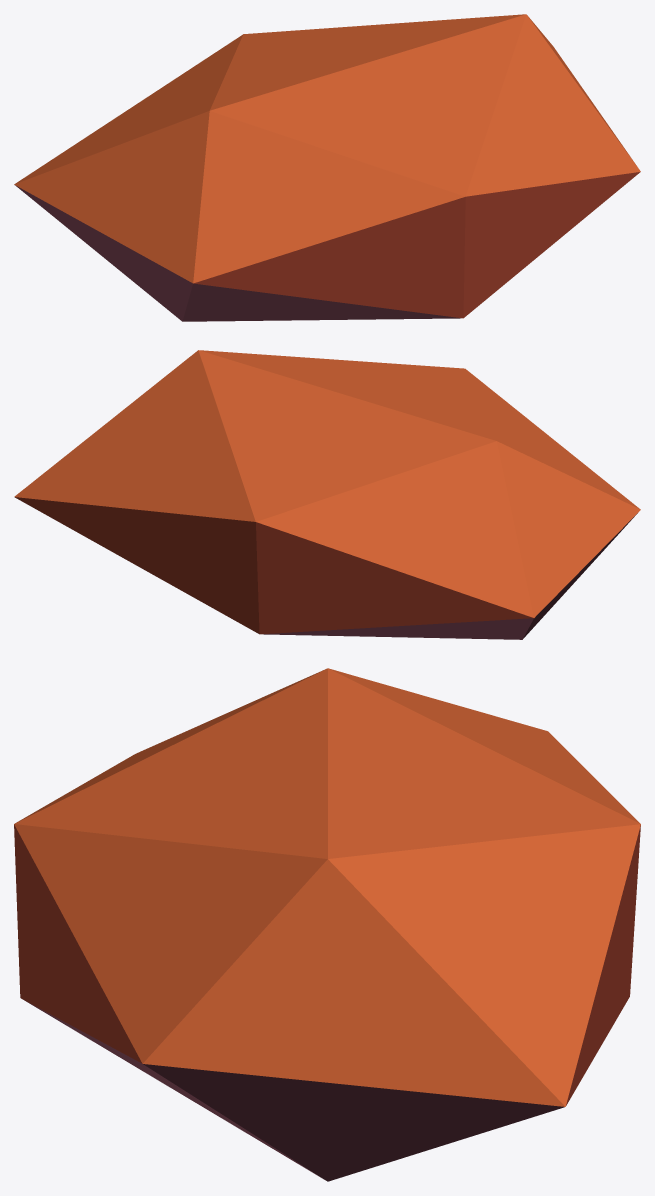
The model's file is Rock_Scatter_C.fbx.
3 renders of one model, top to bottom at view 1: azimuth 30°, elevation 25°; view 2: azimuth 150°, elevation 25°; view 3: azimuth 270°, elevation 25°, orthographic. The views are drawn at different scales.
Parts seen in each view (by area): view 1: Rock_Scatter_C; view 2: Rock_Scatter_C; view 3: Rock_Scatter_C.
Part boxes in pixels (x1,y1,x2,y2): Rock_Scatter_C: (14, 14, 640, 321); Rock_Scatter_C: (14, 350, 640, 639); Rock_Scatter_C: (14, 668, 640, 1181).
Size of the model in its own units: 0.5805 by 0.2272 by 0.4093.
